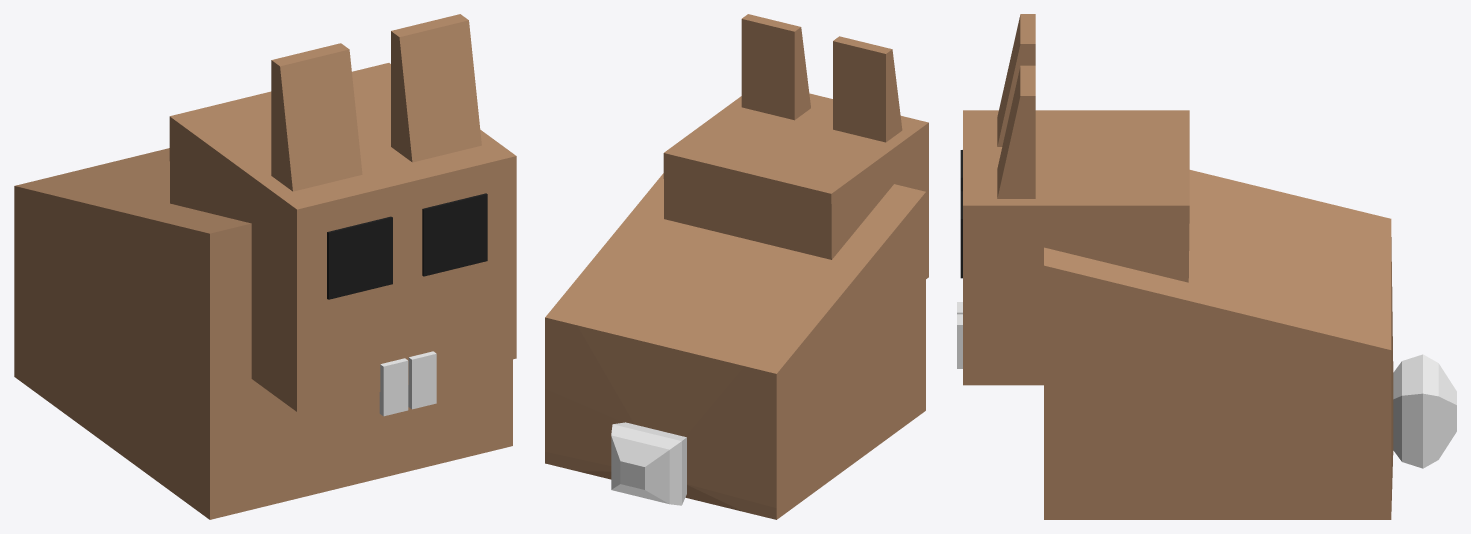
The model's file is bunny_male.glb.
The picture shows the model from 3 angles, left to right: view 1: azimuth 30°, elevation 25°; view 2: azimuth 150°, elevation 25°; view 3: azimuth 270°, elevation 25°; orthographic projection. The views are drawn at different scales.
Visible parts, largest first — view 1: bunny_male; view 2: bunny_male; view 3: bunny_male.
Boxes of the visible parts, bbox=[...] form: bunny_male: bbox=[14, 14, 516, 519]; bunny_male: bbox=[545, 14, 928, 519]; bunny_male: bbox=[957, 14, 1456, 519].
Size of the model in its own units: 21.9 by 31.03 by 35.19.
1 material, 1 textured.
